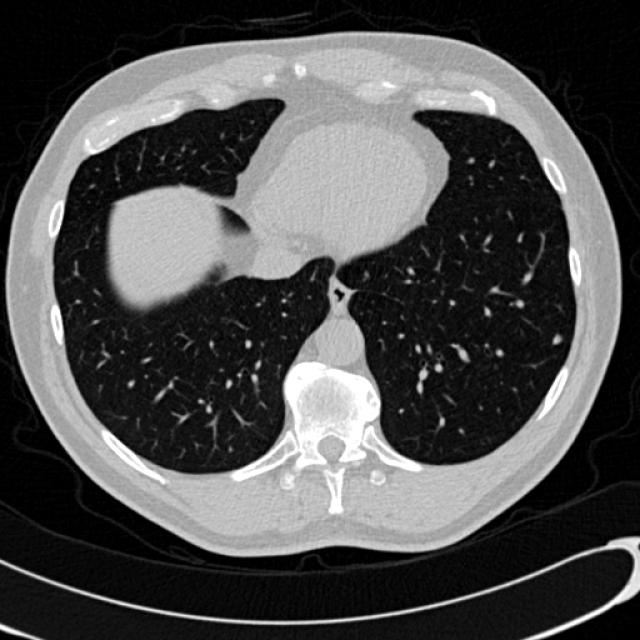nodule: (544, 326, 568, 352)
